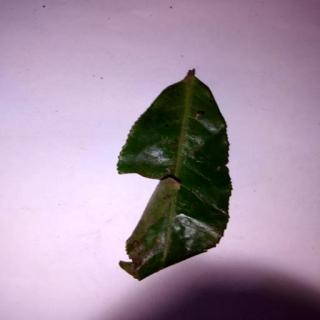Bird Eye Spot: (119, 71, 234, 282)
